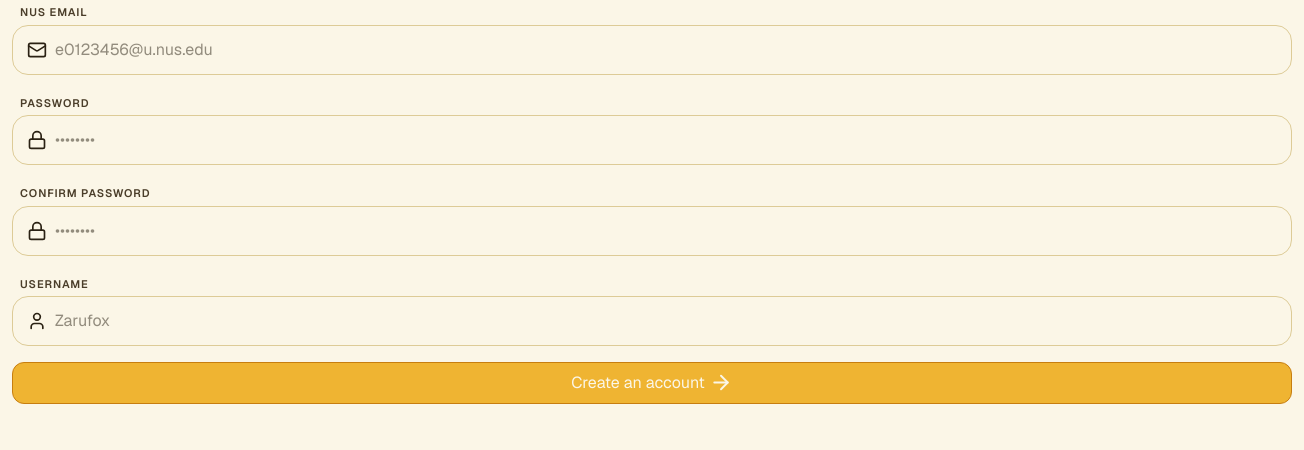
Test: RegisterForm › client side validation shows an error when the email is not an NUS email
This screenshot has width=1304, height=450.
In the field labelled "NUS EMAIL": (669, 50) x1=47 y1=30 x2=1291 y2=70, type "zarufox@gmail.com"
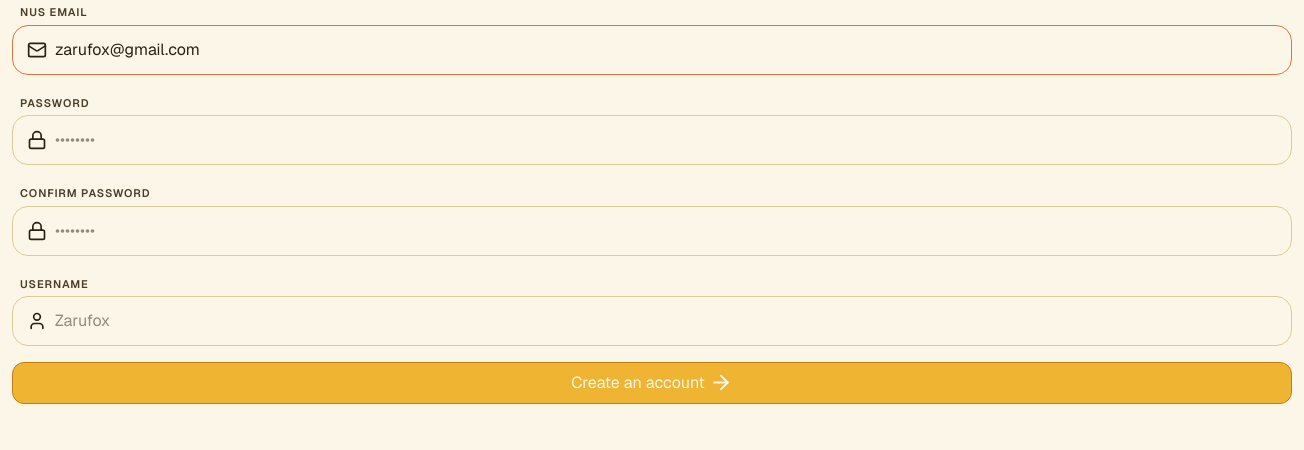
In the password field labelled "PASSWORD": (669, 140) x1=47 y1=120 x2=1291 y2=160, type "password123"
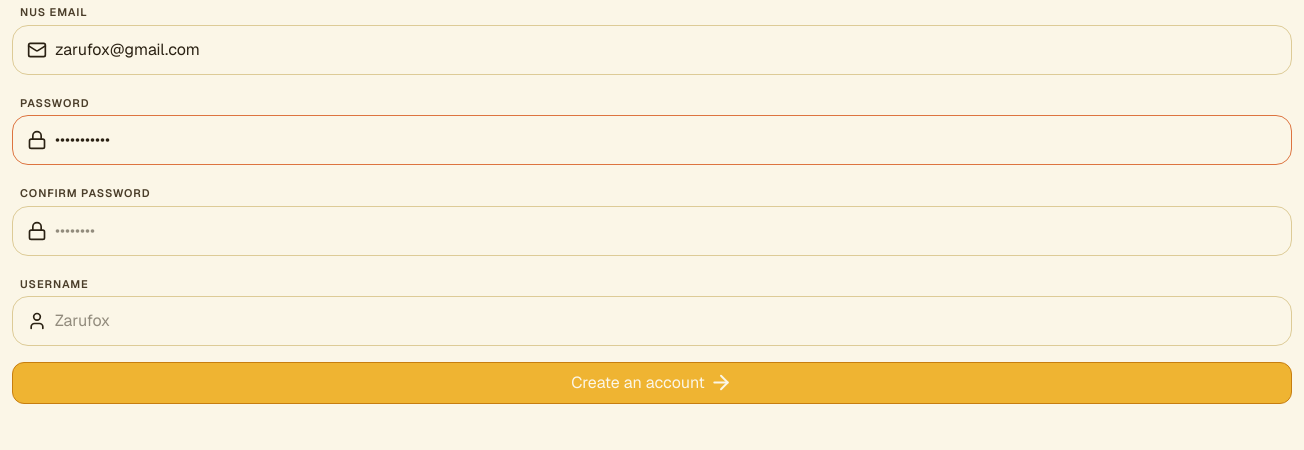
In the password field labelled "CONFIRM PASSWORD": (669, 230) x1=47 y1=210 x2=1291 y2=250, type "password1234"
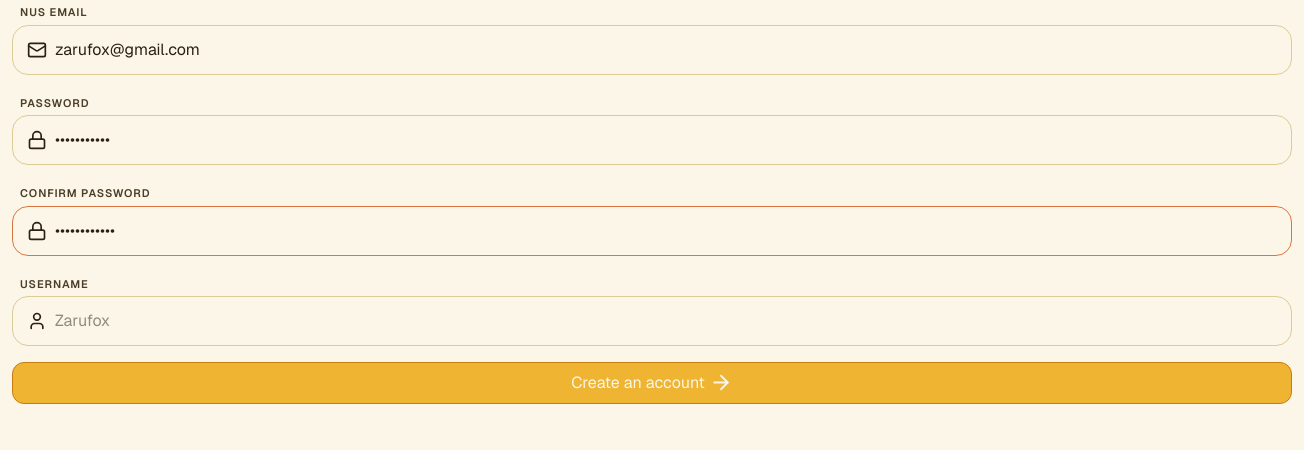
In the field labelled "USERNAME": (669, 321) x1=47 y1=301 x2=1291 y2=341, type "Zaru"
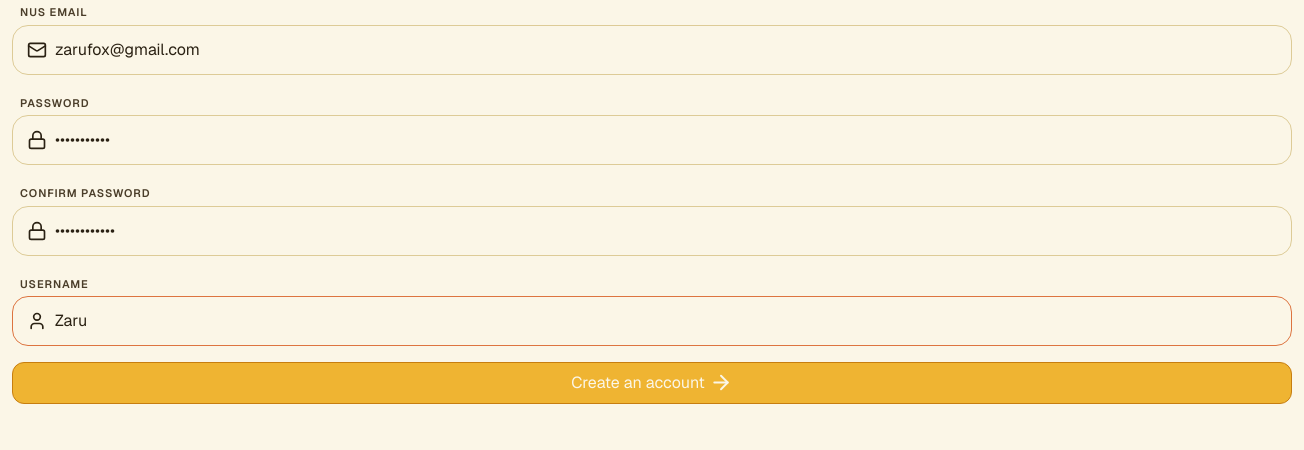
Click the button "Create an account": click(652, 383) x1=12 y1=362 x2=1292 y2=404
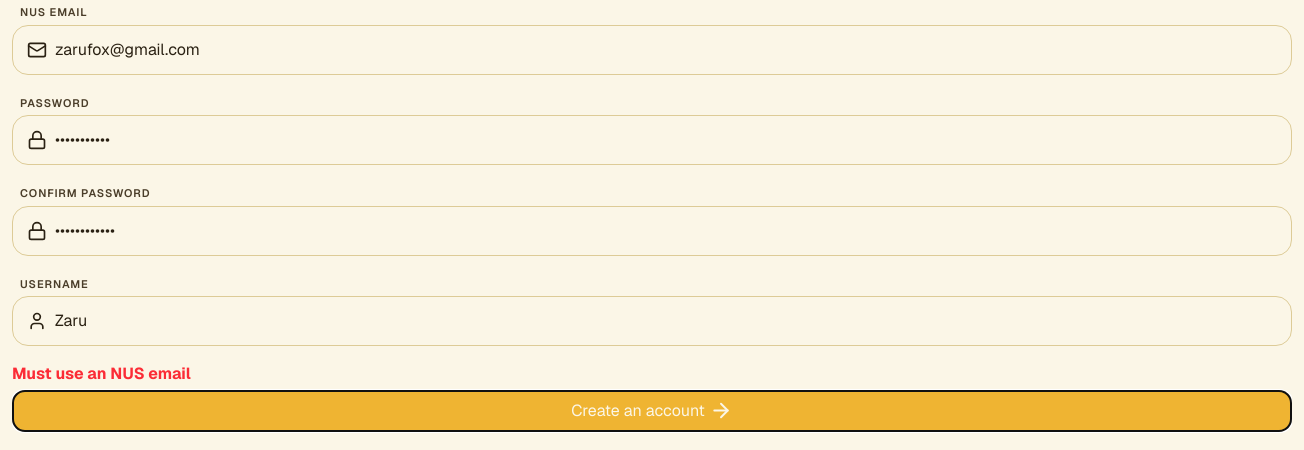
expect the text "Must use an NUS email" is shown: met, box x1=12 y1=363 x2=191 y2=384
